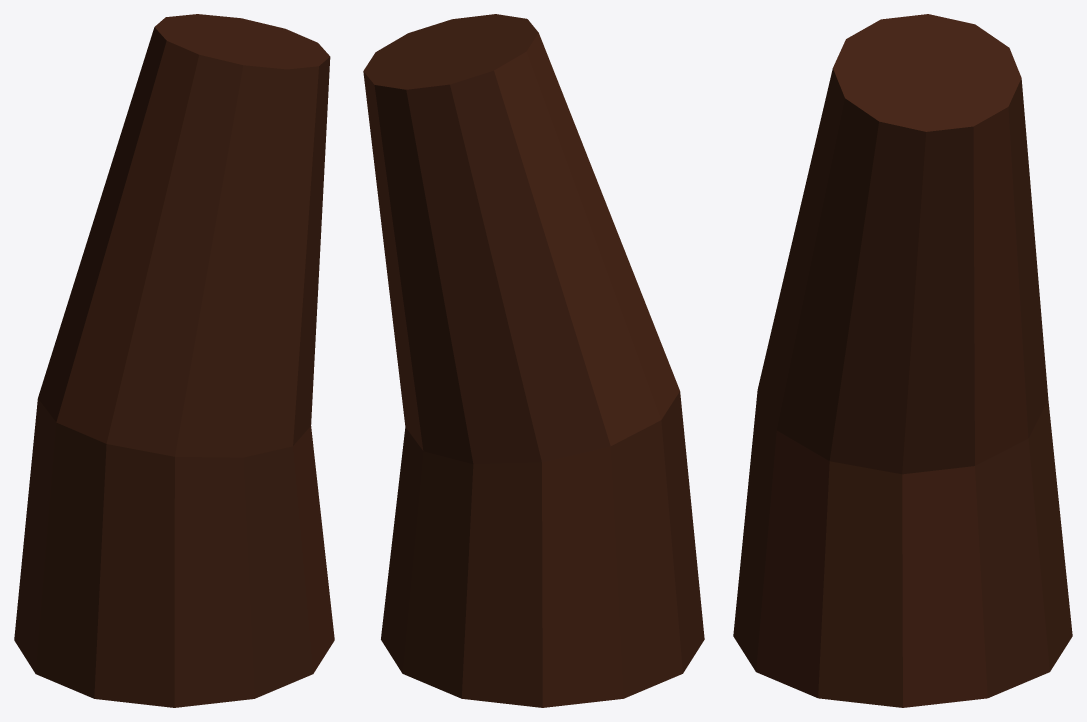
Rendered from N08_Branch_Short.fbx.
3 renders of one model, left to right at view 1: azimuth 30°, elevation 25°; view 2: azimuth 150°, elevation 25°; view 3: azimuth 270°, elevation 25°, orthographic. The views are drawn at different scales.
Visible parts, largest first — view 1: N08_Branch_Short; view 2: N08_Branch_Short; view 3: N08_Branch_Short.
Part boxes in pixels (bbox=[...]): N08_Branch_Short: bbox=[14, 14, 334, 707]; N08_Branch_Short: bbox=[363, 14, 704, 707]; N08_Branch_Short: bbox=[733, 14, 1072, 707].
Size of the model in its own units: 0.2958 by 0.5683 by 0.28.
1 material, 1 textured.
